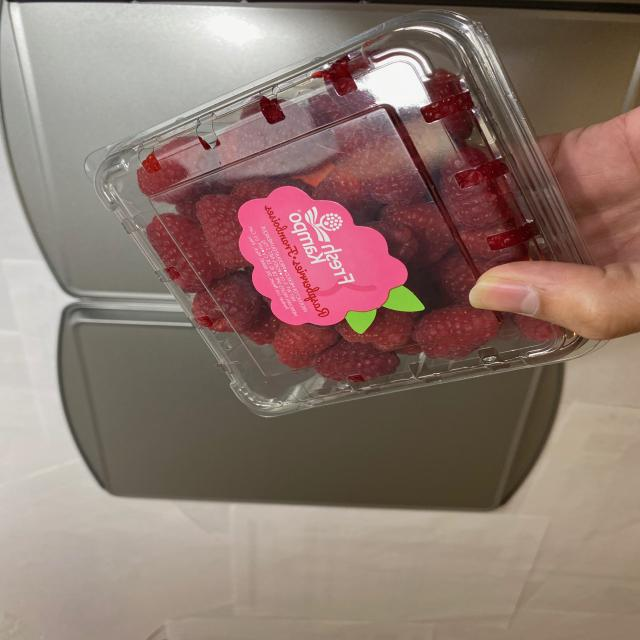raspberries: (142, 92, 570, 385)
